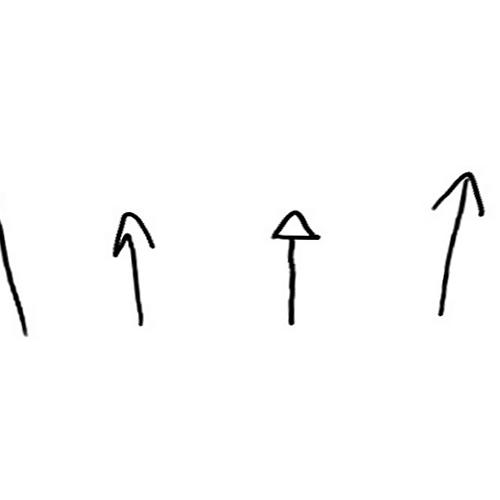arrow: (427, 169, 484, 314), (271, 210, 319, 323), (109, 211, 153, 328), (1, 223, 30, 338)
